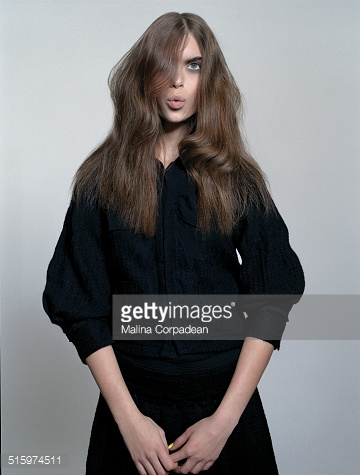em pe: (61, 6, 304, 474)
